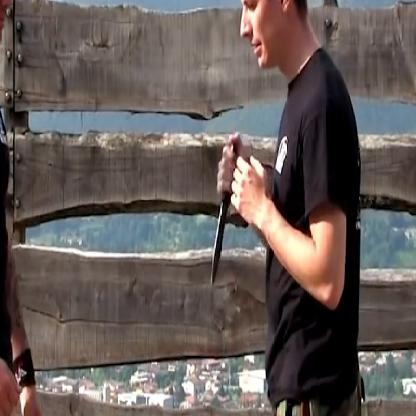knife: (205, 130, 242, 292)
